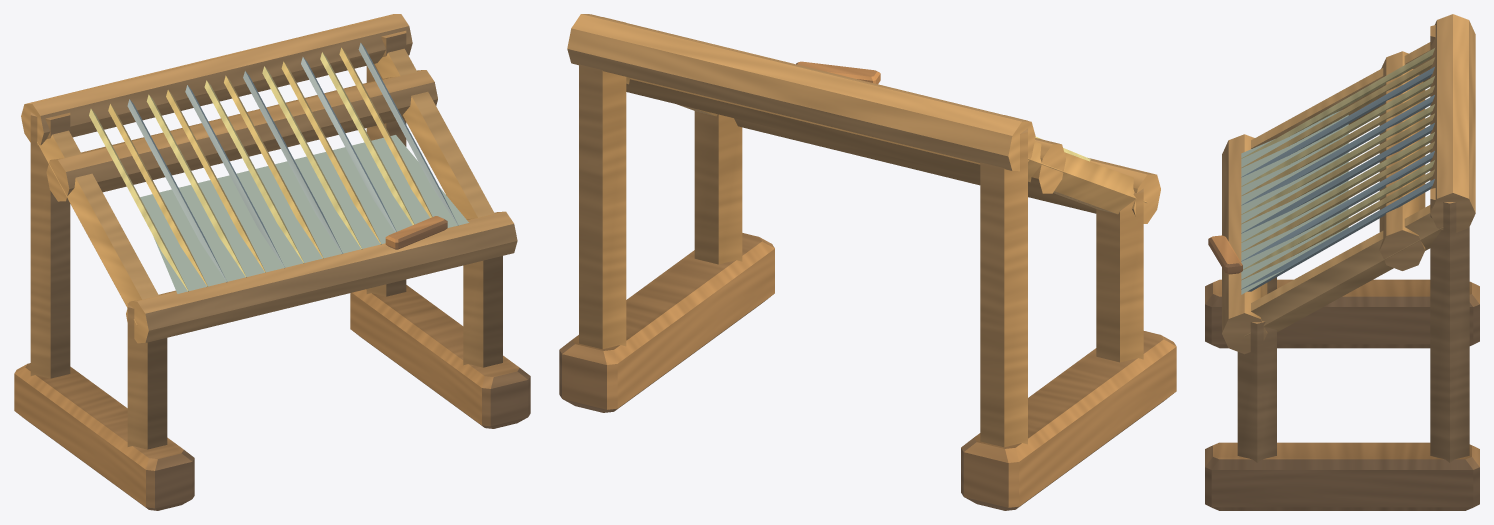
The model's file is workshop_loom.glb.
The picture shows the model from 3 angles, left to right: view 1: azimuth 30°, elevation 25°; view 2: azimuth 150°, elevation 25°; view 3: azimuth 270°, elevation 25°; orthographic projection. The views are drawn at different scales.
Visible parts, largest first — view 1: Hof · Webrahmen und Stoffbahnen; view 2: Hof · Webrahmen und Stoffbahnen; view 3: Hof · Webrahmen und Stoffbahnen.
Part boxes in pixels (x1,y1,x2,y2): Hof · Webrahmen und Stoffbahnen: (14,14,530,510); Hof · Webrahmen und Stoffbahnen: (559,14,1176,510); Hof · Webrahmen und Stoffbahnen: (1205,14,1479,510).
Bounding box in the file's own units: 1.4 × 1.11 × 0.87.
3 materials, 2 textured.
